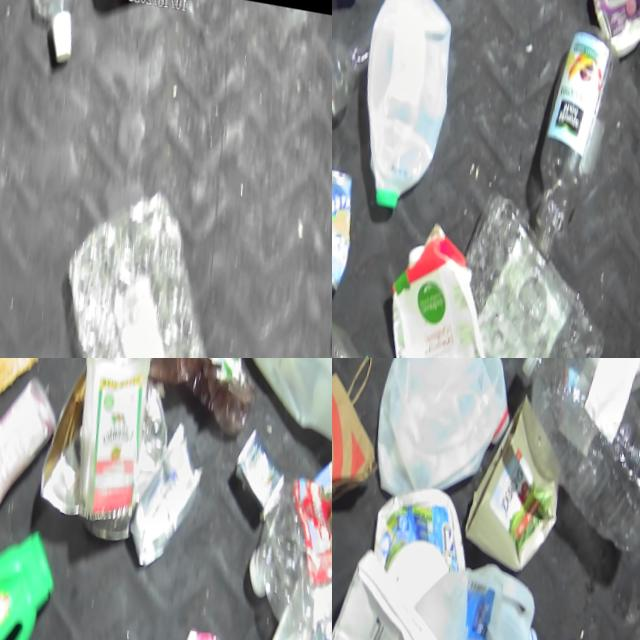can: (332, 152, 359, 287)
milk_jug: (353, 0, 455, 208), (375, 358, 526, 493), (425, 549, 544, 640), (238, 358, 332, 439)
non_white_jug: (0, 513, 56, 640)
plastic_bottle: (35, 168, 237, 358), (496, 358, 640, 548), (532, 9, 623, 249), (239, 463, 332, 640)
